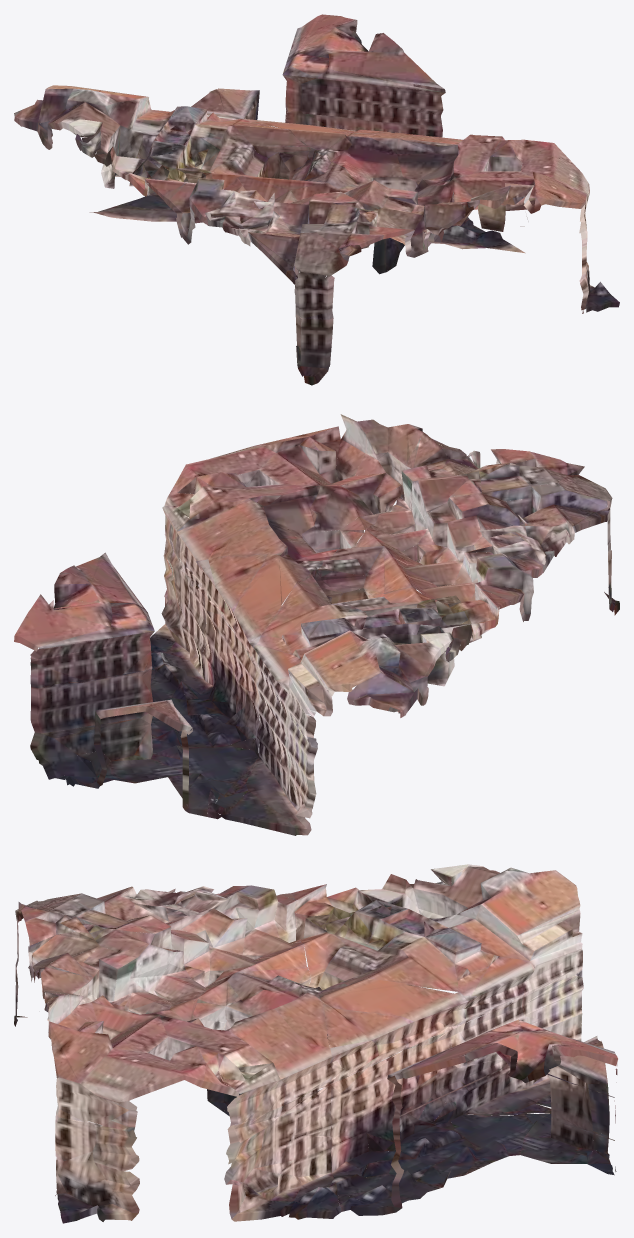
The picture shows the model from 3 angles, top to bottom: view 1: azimuth 30°, elevation 25°; view 2: azimuth 150°, elevation 25°; view 3: azimuth 270°, elevation 25°; orthographic projection. The views are drawn at different scales.
Visible parts, largest first — view 1: Mesh_0; view 2: Mesh_0; view 3: Mesh_0.
Part boxes in pixels (x1,y1,x2,y2): Mesh_0: (14, 14, 619, 385); Mesh_0: (14, 414, 619, 835); Mesh_0: (14, 864, 617, 1223).
Bounding box in the file's own units: 66.6 × 27.77 × 82.49.
Materials: 2 (2 with a texture image).
